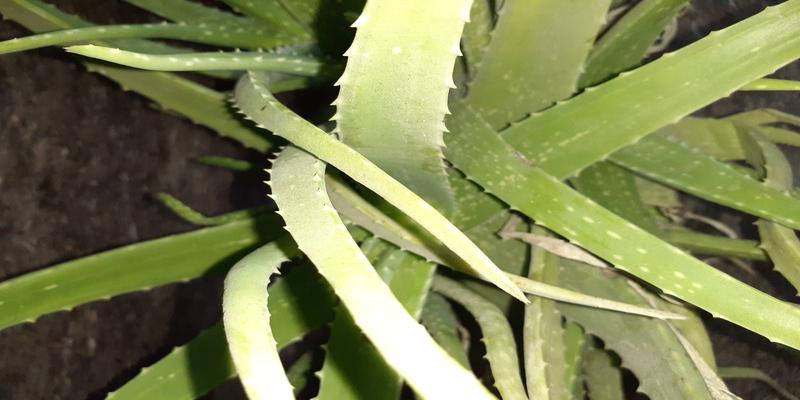Aloevera: (194, 52, 700, 352)
